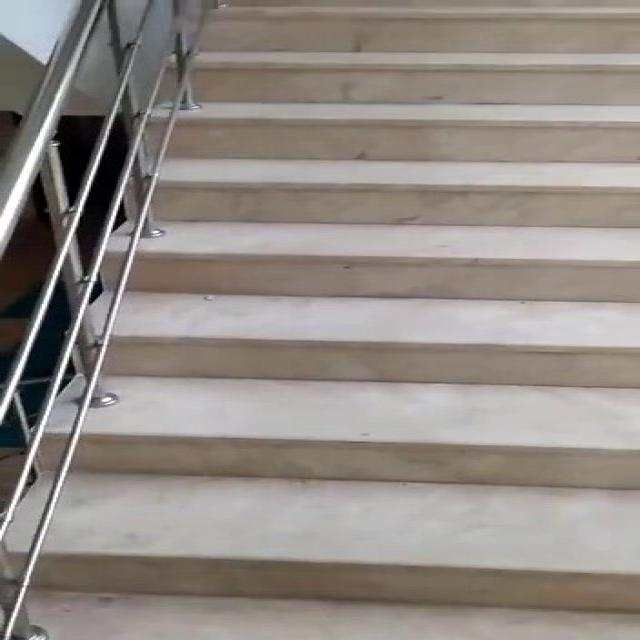stairs: (0, 0, 638, 620)
